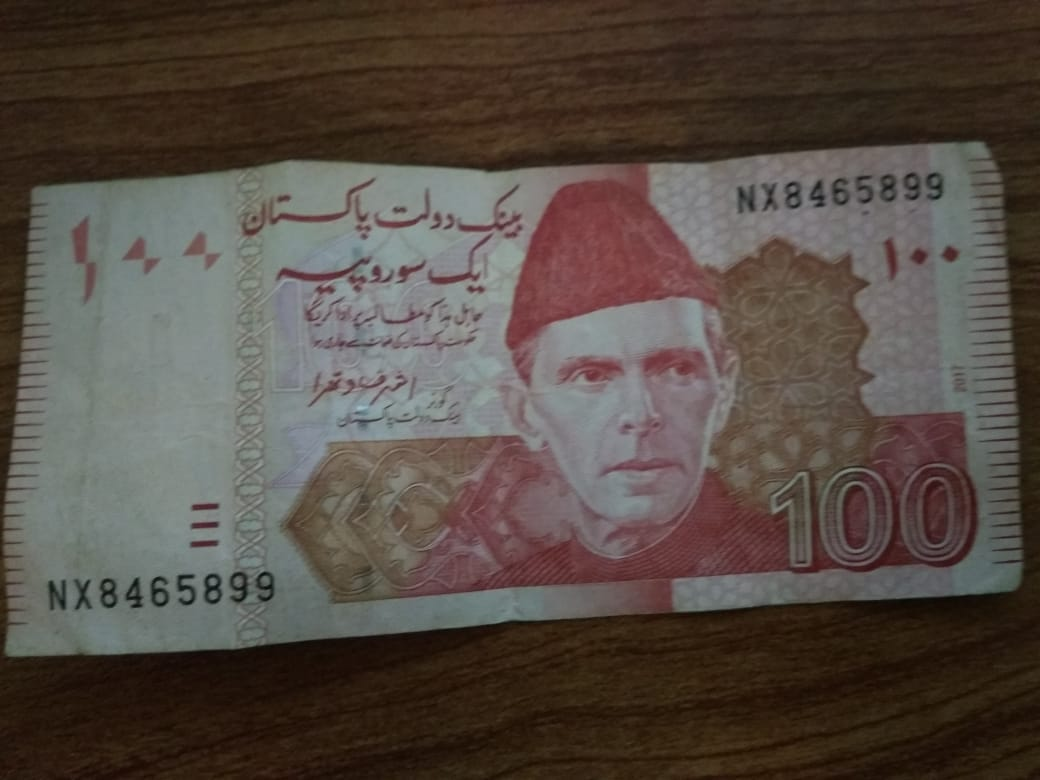100 rupee: (9, 134, 1026, 652)
